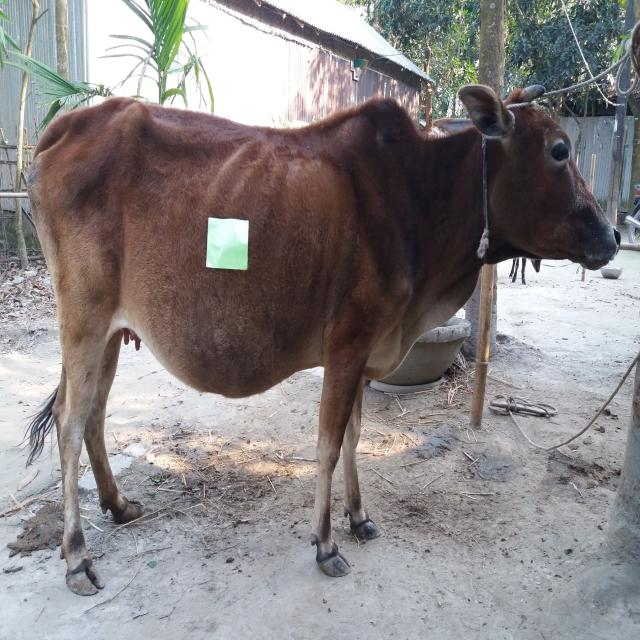badan_sapi: (59, 125, 373, 367)
sapi: (22, 80, 620, 600)
